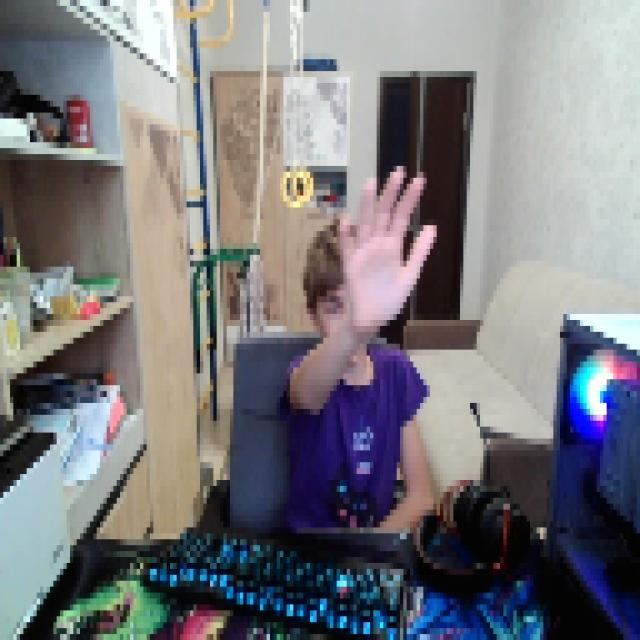hand: (330, 160, 433, 326)
